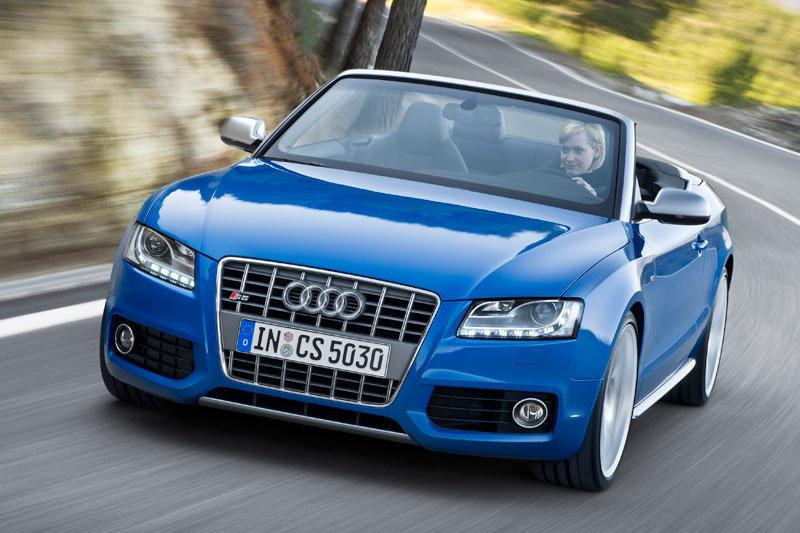Audi: (273, 273, 376, 329)
